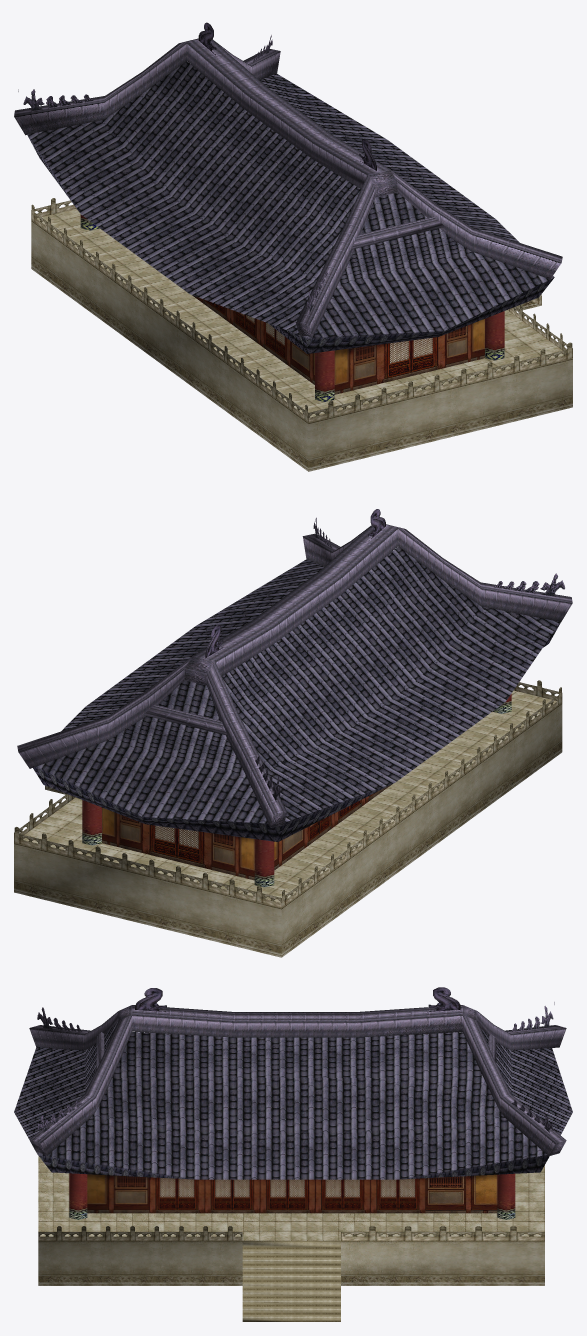
Rendered from cj5_tem_sleep.glb.
The picture shows the model from 3 angles, top to bottom: view 1: azimuth 30°, elevation 25°; view 2: azimuth 150°, elevation 25°; view 3: azimuth 270°, elevation 25°; orthographic projection. The views are drawn at different scales.
Parts seen in each view (by area): view 1: CJ5_tem_sleep03, CJ5_tem_sleep02, CJ5_tem_sleep07, CJ5_tem_sleep06, CJ5_tem_sleep01, CJ5_tem_sleep05; view 2: CJ5_tem_sleep03, CJ5_tem_sleep02, CJ5_tem_sleep07, CJ5_tem_sleep06, CJ5_tem_sleep01, CJ5_tem_sleep05; view 3: CJ5_tem_sleep03, CJ5_tem_sleep02, CJ5_tem_sleep07, CJ5_tem_sleep01, CJ5_tem_sleep06, CJ5_tem_sleep05.
Boxes of the visible parts, <box> form: CJ5_tem_sleep03: <box>27,61,554,337</box>; CJ5_tem_sleep02: <box>31,198,572,471</box>; CJ5_tem_sleep07: <box>14,22,562,401</box>; CJ5_tem_sleep06: <box>37,208,563,417</box>; CJ5_tem_sleep01: <box>192,295,484,394</box>; CJ5_tem_sleep05: <box>27,135,554,353</box>; CJ5_tem_sleep03: <box>37,546,560,823</box>; CJ5_tem_sleep02: <box>14,680,562,957</box>; CJ5_tem_sleep07: <box>17,509,572,887</box>; CJ5_tem_sleep06: <box>23,690,556,902</box>; CJ5_tem_sleep01: <box>102,784,392,880</box>; CJ5_tem_sleep05: <box>33,622,560,841</box>; CJ5_tem_sleep03: <box>14,1022,572,1179</box>; CJ5_tem_sleep02: <box>38,1226,544,1321</box>; CJ5_tem_sleep07: <box>29,987,566,1219</box>; CJ5_tem_sleep01: <box>87,1174,497,1213</box>; CJ5_tem_sleep06: <box>38,1156,544,1240</box>; CJ5_tem_sleep05: <box>37,1154,549,1179</box>.
Size of the model in its own units: 23.95 by 15.69 by 33.67.
7 materials, 7 textured.
